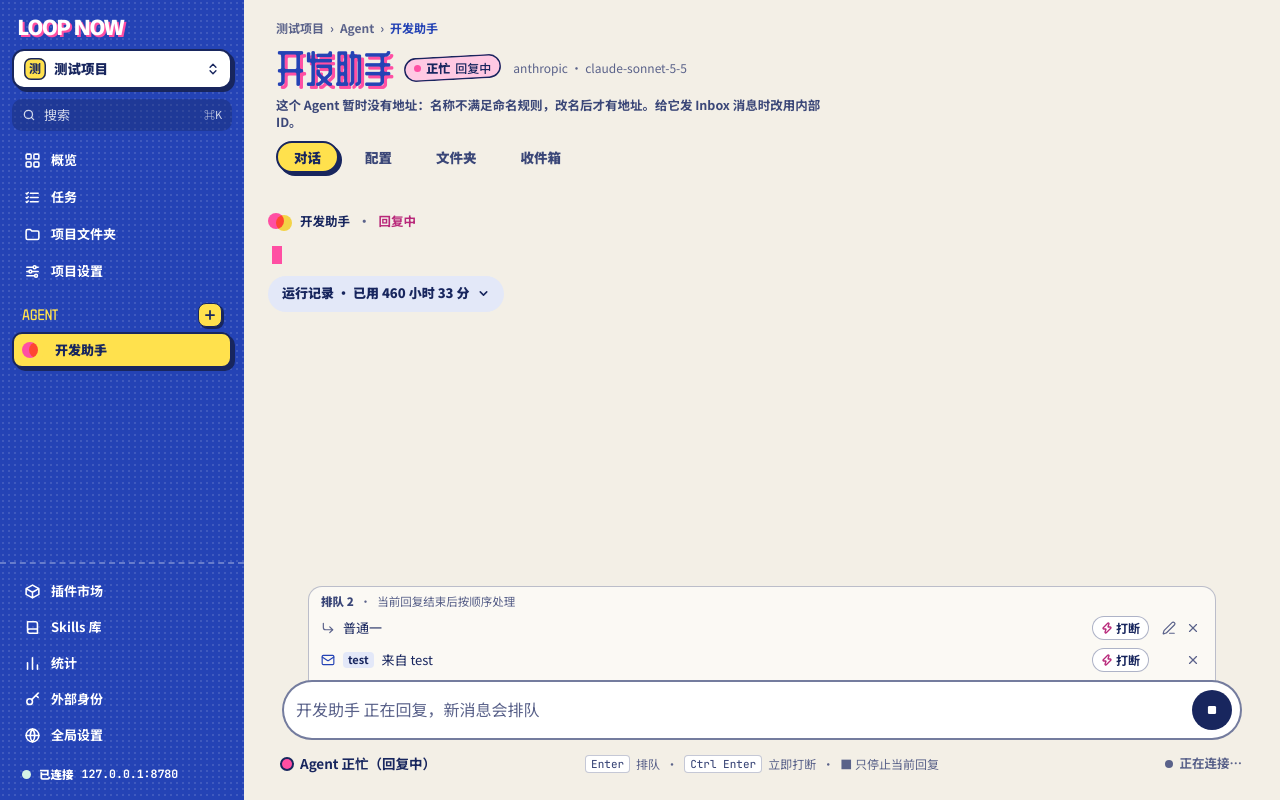
Test: 输入框上方的排队托盘 › 打断：带 actionId 点一下直接生效，进行中禁用；按回执的列表移到前面；Inbox 消息按消息转换
This screenshot has width=1280, height=800.
Expected: the element showing "开发助手 · 回复中 运行记录 · 已用 460 小时 33 分" is shown, x1=268 y1=213 x2=504 y2=312
Click the 2nd button "打断".
click(1120, 660)  # box x1=1092 y1=648 x2=1149 y2=672
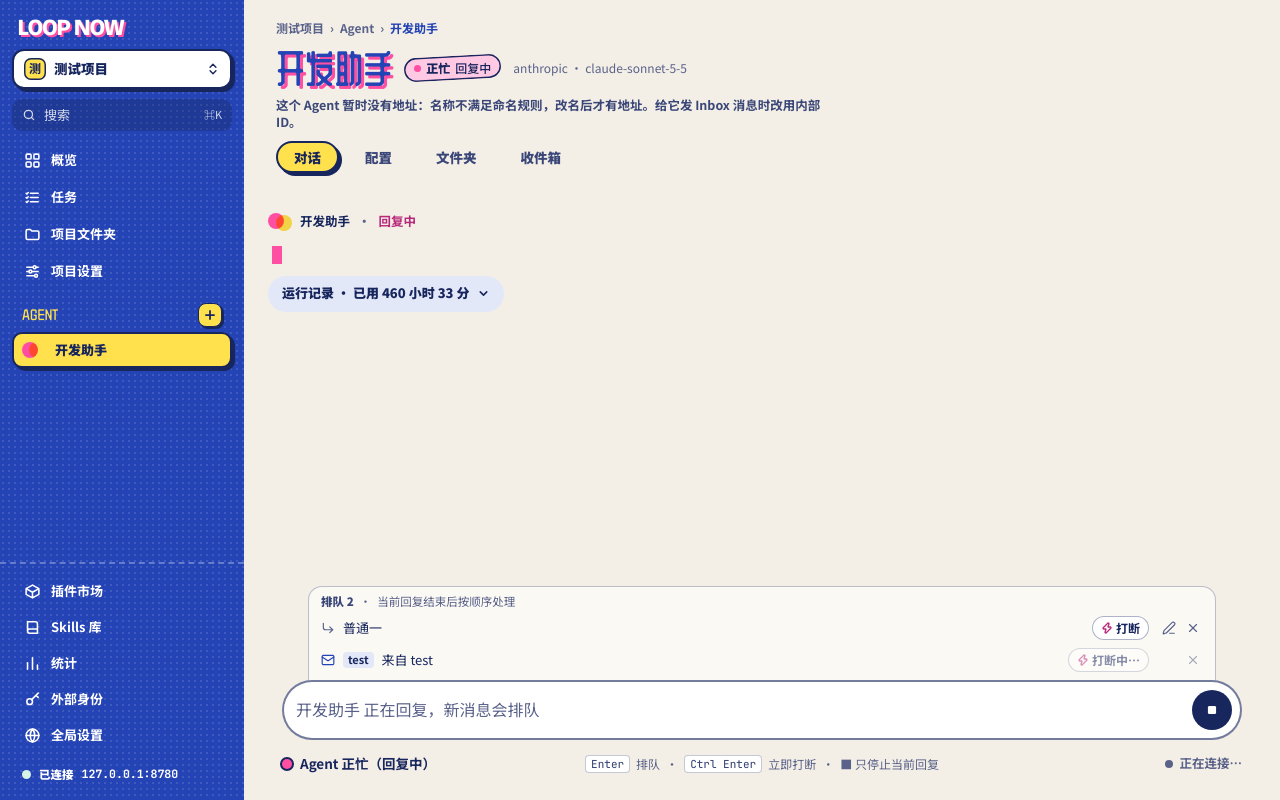
Now the button "打断中…" is disabled
Now the 2nd button named "取消这条排队消息" is disabled, box x1=1181 y1=648 x2=1205 y2=672
Click the button "打断中…".
click(1108, 660)  # box x1=1068 y1=648 x2=1149 y2=672
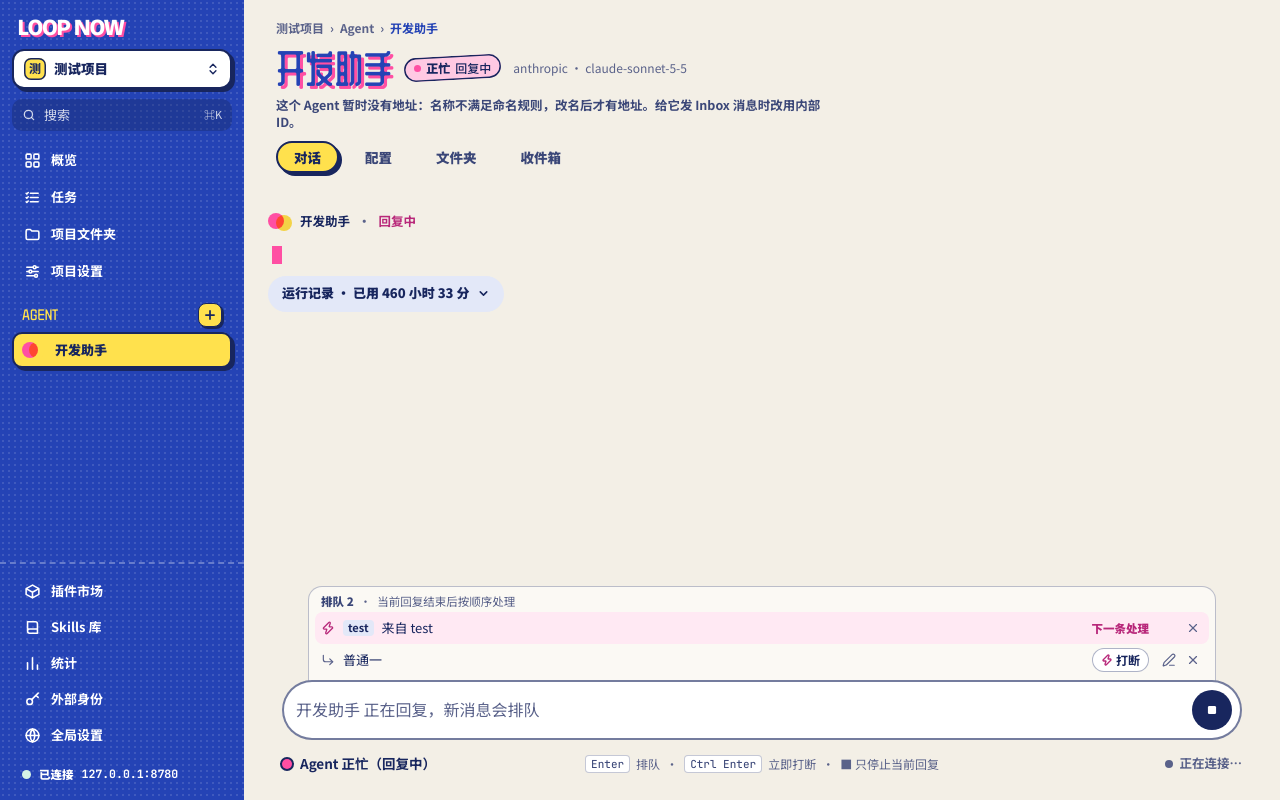
Now the text "下一条处理" is shown, box x1=1092 y1=618 x2=1149 y2=638
